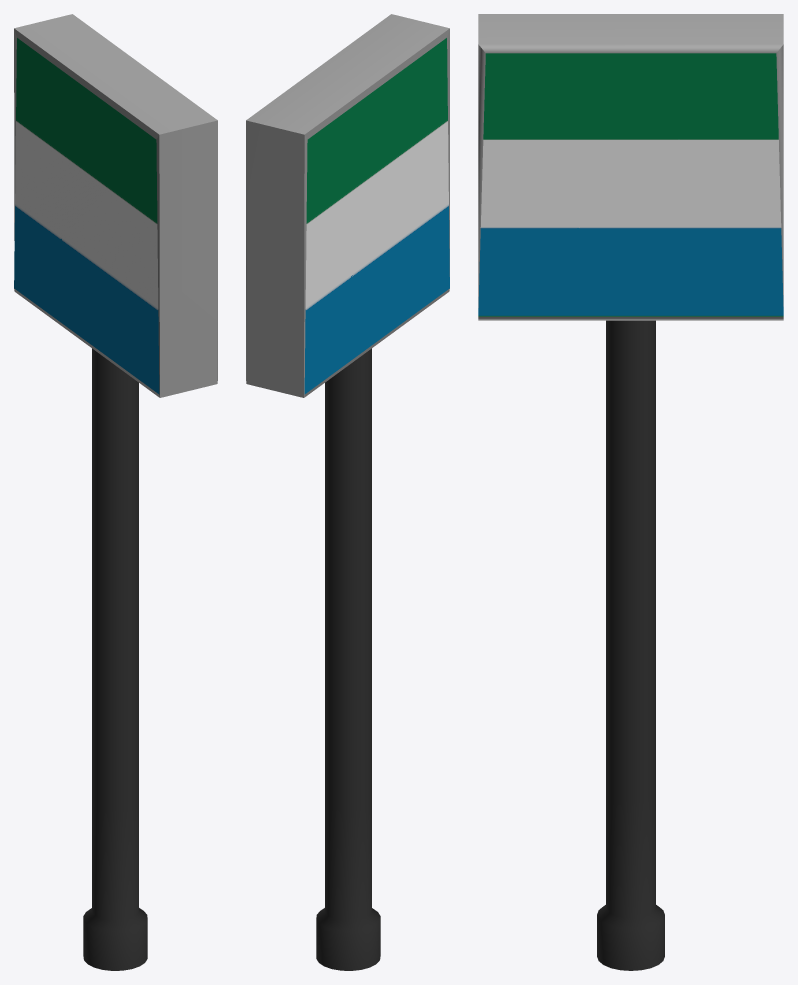
Rendered from FamilyMartKanban.fbx.
3 views of the same model, side by side, from view 1: azimuth 30°, elevation 25°; view 2: azimuth 150°, elevation 25°; view 3: azimuth 270°, elevation 25° (orthographic). The views are drawn at different scales.
Parts seen in each view (by area): view 1: pCube1, Pole2; view 2: pCube1, Pole2; view 3: pCube1, Pole2.
Part boxes in pixels (<box>): pCube1: <box>14,14,217,397</box>; Pole2: <box>83,348,147,970</box>; pCube1: <box>246,14,449,397</box>; Pole2: <box>316,348,380,970</box>; pCube1: <box>478,14,783,320</box>; Pole2: <box>597,320,664,970</box>.
Size of the model in its own units: 41.86 by 603 by 180.
Materials: 3 (1 with a texture image).
